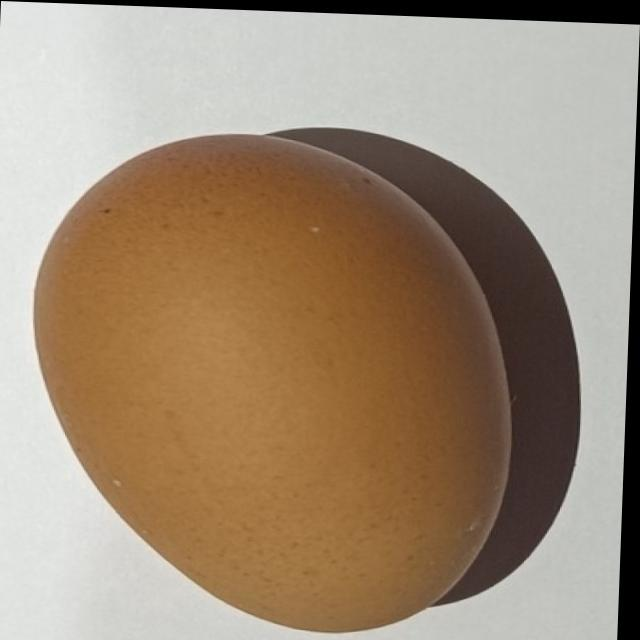fresh: (16, 125, 516, 633)
